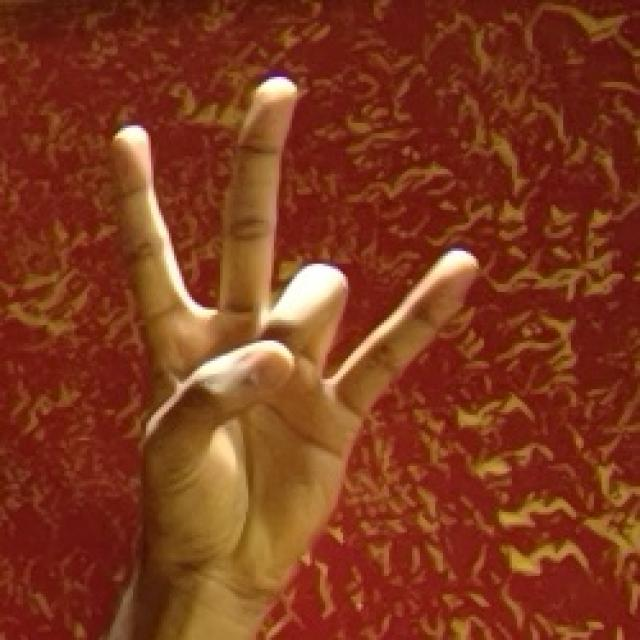Numeric-7: (112, 72, 476, 598)
